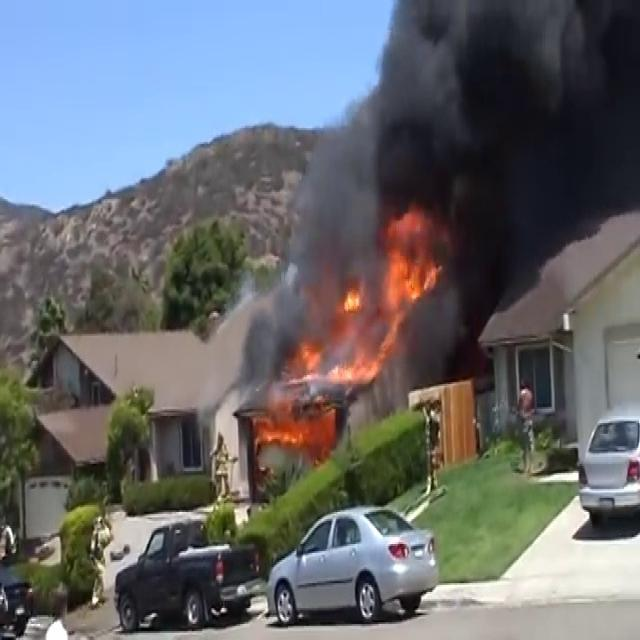Fire: (247, 208, 446, 444)
Smoke: (331, 0, 640, 318), (236, 100, 372, 387)
